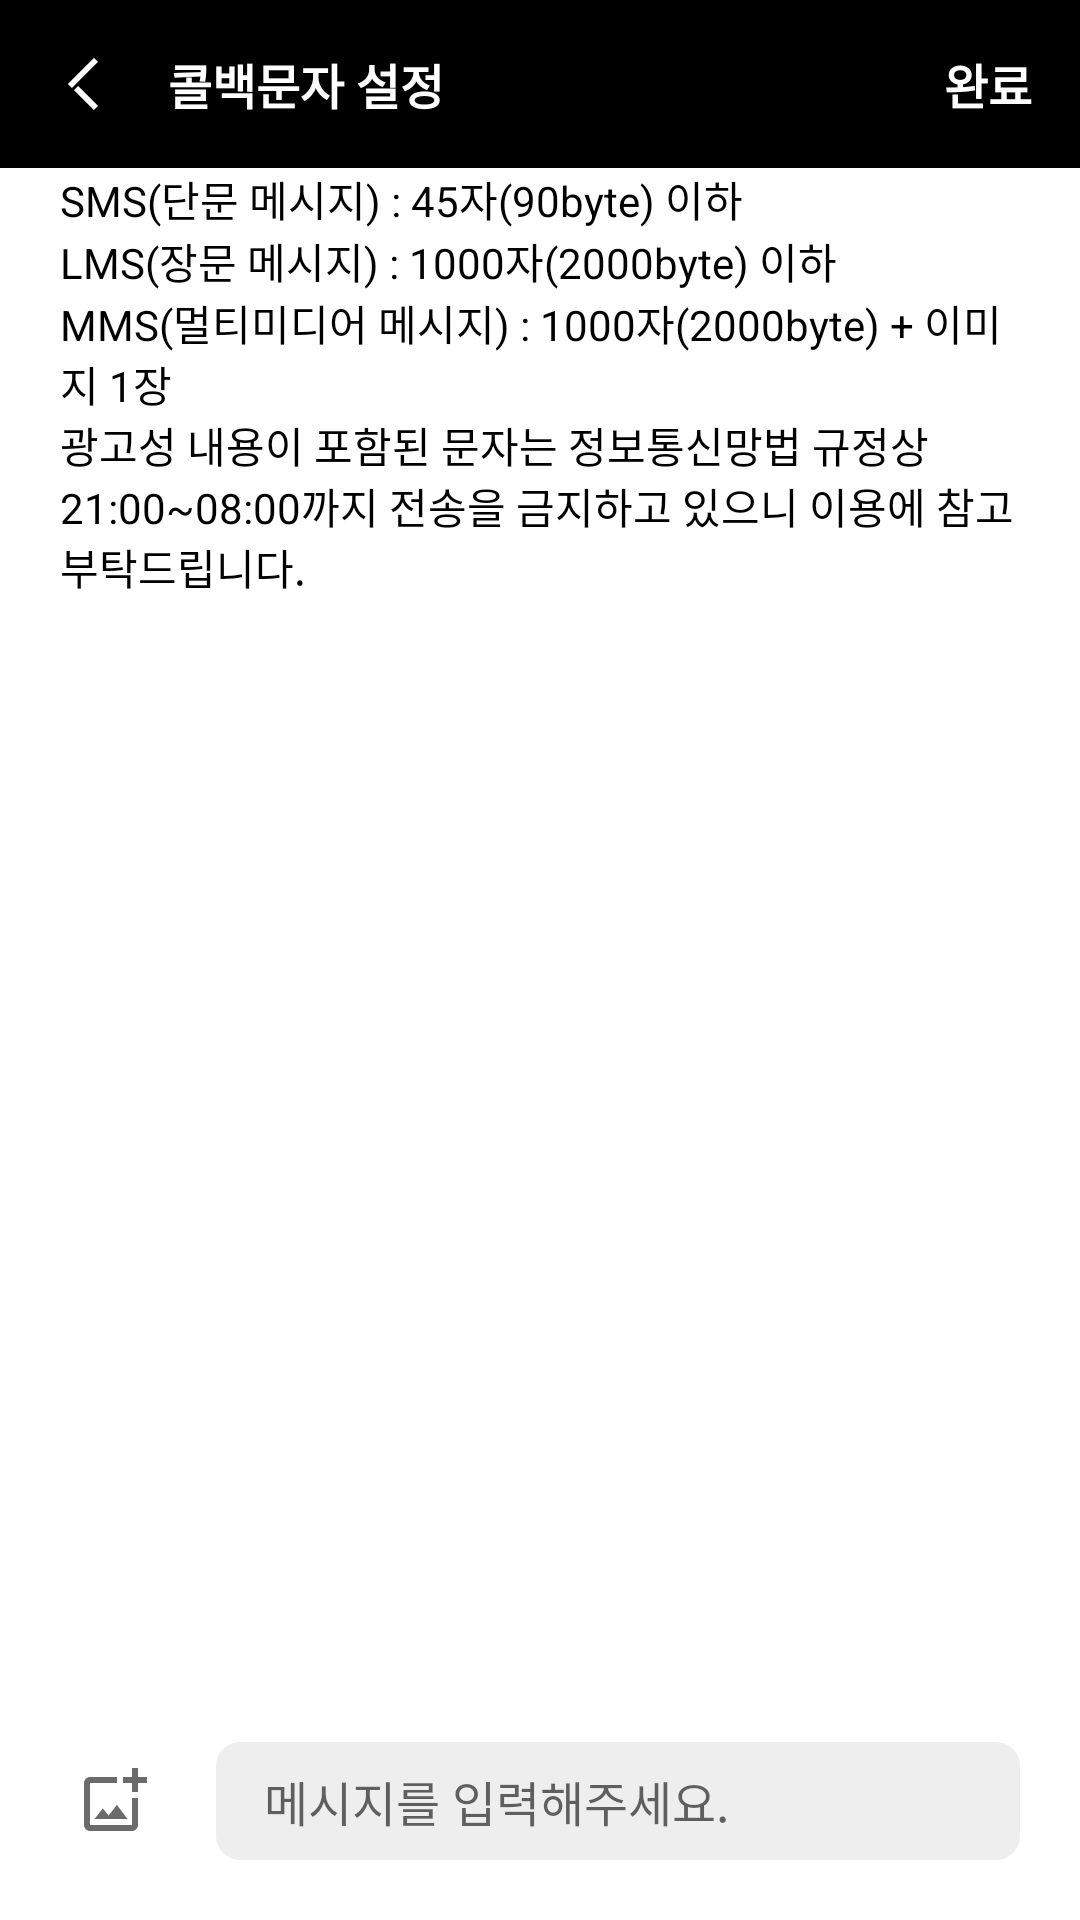

Point at icon controls on the screen. Image size 1080 × 1920, points as [x,y].
back: [83,84]
photo attach: [115,1799]
